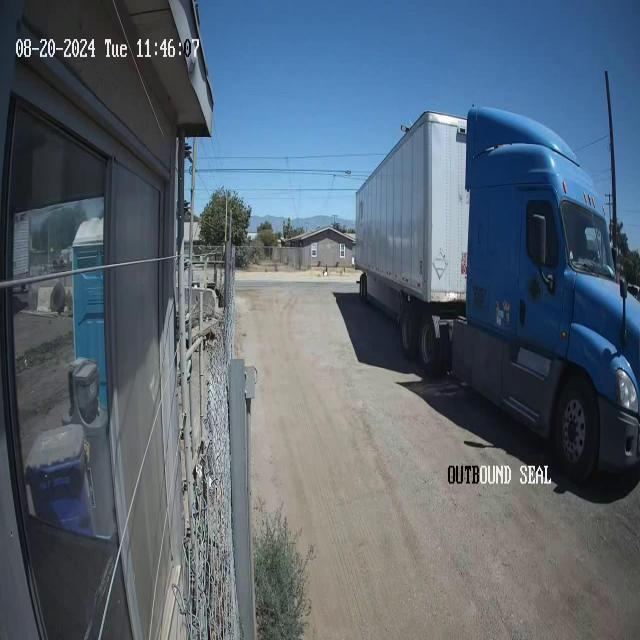CONTAINER: (352, 108, 468, 311)
